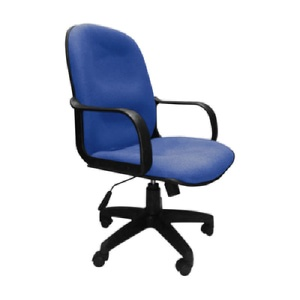chair: (63, 23, 235, 278)
